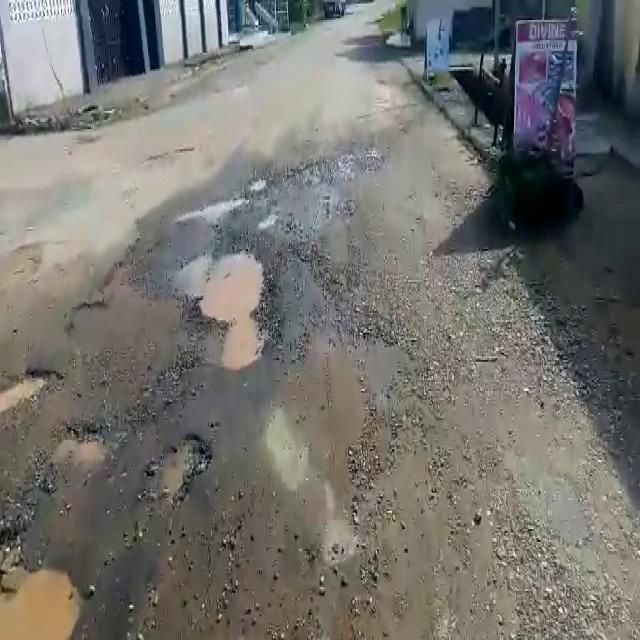Pothole: (169, 242, 278, 362), (0, 562, 83, 640), (140, 425, 210, 506), (2, 364, 64, 415), (186, 188, 252, 225)
